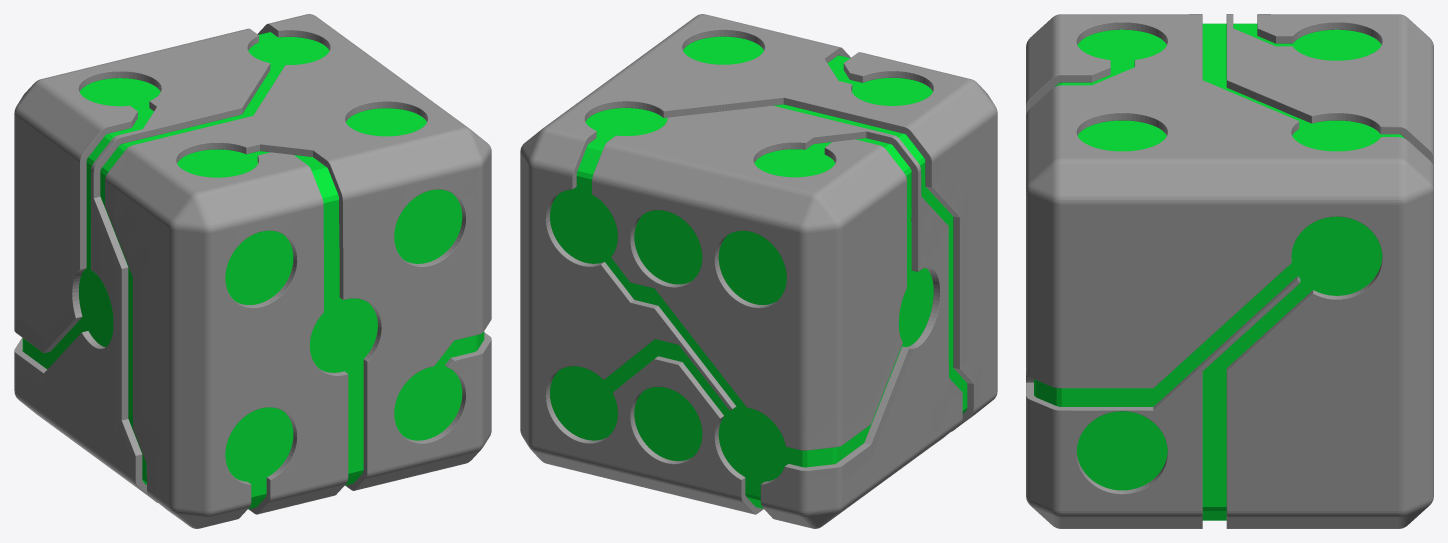
File: dice.glb
3 renders of one model, left to right at view 1: azimuth 30°, elevation 25°; view 2: azimuth 150°, elevation 25°; view 3: azimuth 270°, elevation 25°, orthographic. The views are drawn at different scales.
Visible parts, largest first — view 1: perforatedBox, mainBox; view 2: perforatedBox, mainBox; view 3: perforatedBox, mainBox.
Part boxes in pixels (<box>): perforatedBox: <box>14,14,491,528</box>; mainBox: <box>22,32,484,509</box>; perforatedBox: <box>520,14,997,528</box>; mainBox: <box>550,36,967,508</box>; perforatedBox: <box>1026,14,1433,528</box>; mainBox: <box>1034,23,1404,520</box>.
Size of the model in its own units: 23.68 by 23.66 by 23.66.
